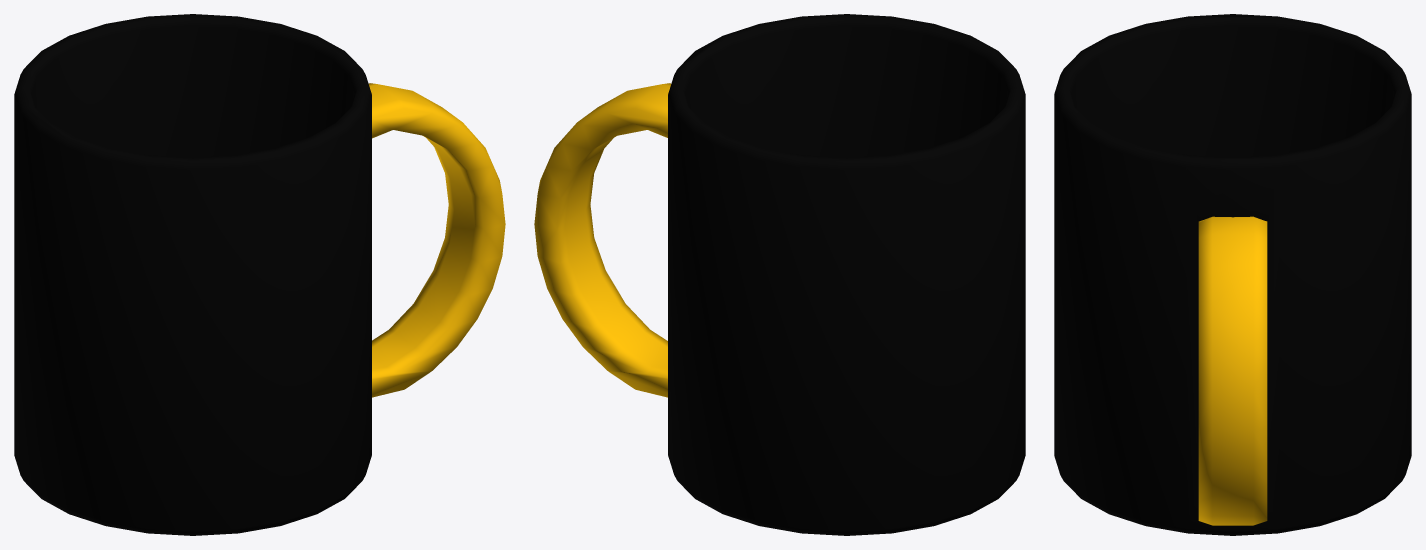
File: mug_11_origin_gt_1.dae
The picture shows the model from 3 angles, left to right: view 1: azimuth 30°, elevation 25°; view 2: azimuth 150°, elevation 25°; view 3: azimuth 270°, elevation 25°; orthographic projection.
Parts seen in each view (by area): view 1: SketchUp (×3); view 2: SketchUp (×3); view 3: SketchUp (×3).
Part boxes in pixels (bbox=[...]): SketchUp (×3): bbox=[14, 14, 505, 535]; SketchUp (×3): bbox=[534, 14, 1025, 535]; SketchUp (×3): bbox=[1054, 14, 1411, 535].
Size of the model in its own units: 4.79 by 3.25 by 3.75.
